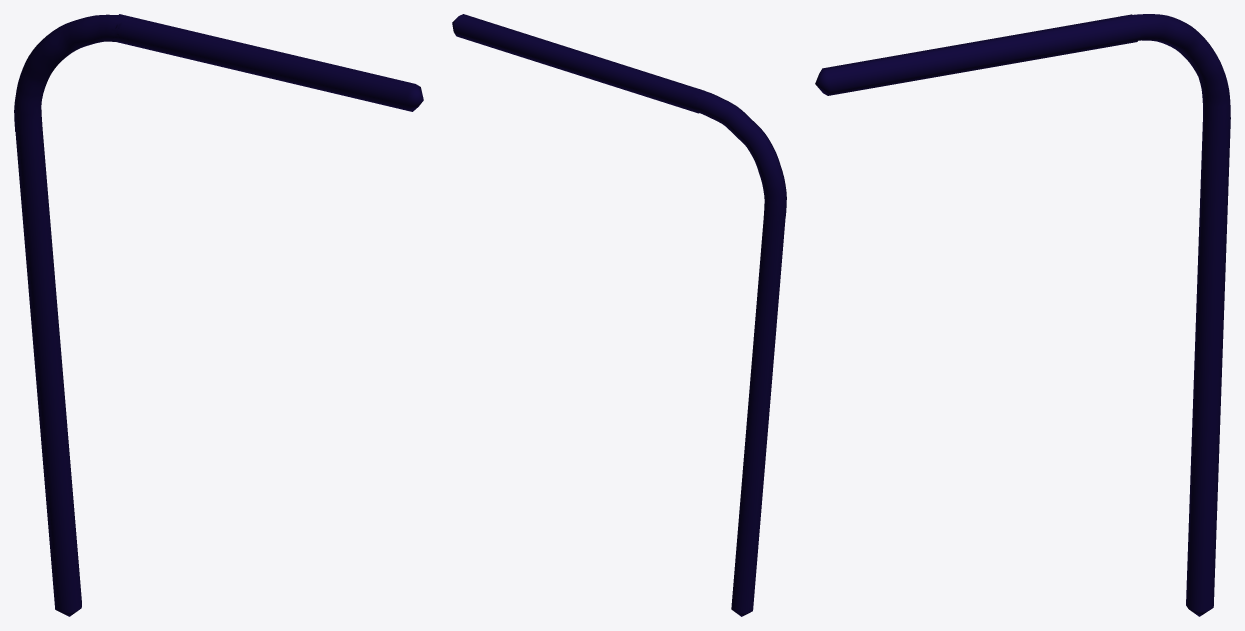
3 views of the same model, side by side, from view 1: azimuth 30°, elevation 25°; view 2: azimuth 210°, elevation 25°; view 3: azimuth 270°, elevation 25° (orthographic). The views are drawn at different scales.
Parts seen in each view (by area): view 1: brush_Icing_g1_b0; view 2: brush_Icing_g1_b0; view 3: brush_Icing_g1_b0.
Part boxes in pixels (<box>): brush_Icing_g1_b0: <box>14,14,423,616</box>; brush_Icing_g1_b0: <box>452,14,786,616</box>; brush_Icing_g1_b0: <box>815,14,1230,616</box>.
Bounding box in the file's own units: 2.35 × 6.8 × 4.13.
